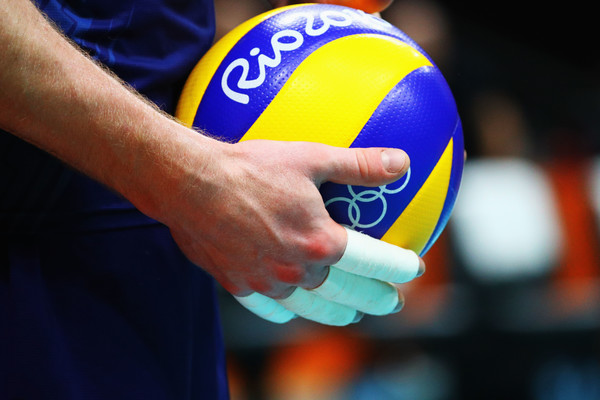volleyball: (173, 2, 464, 270)
